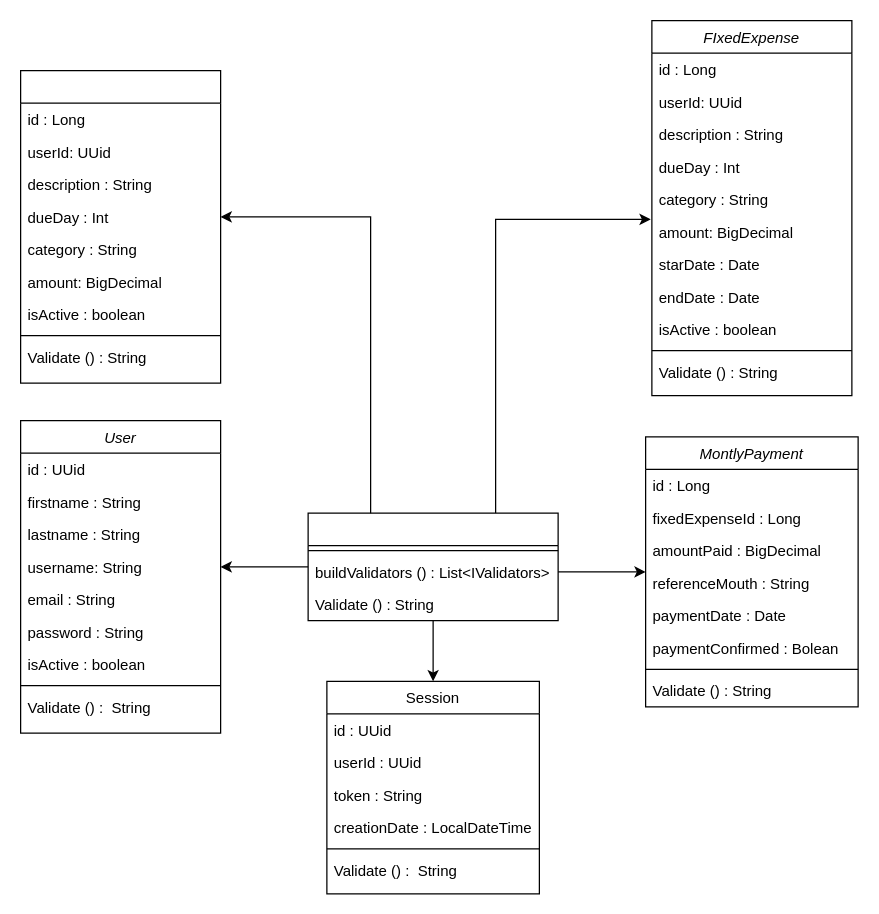
This 879x914 diagram has some shape labels left out. The box of each missing label's shape, as (x1, y1, x2, y2) in pixels:
AbstractEntity: (307, 512, 558, 621)
VariableExpense: (19, 69, 221, 383)
